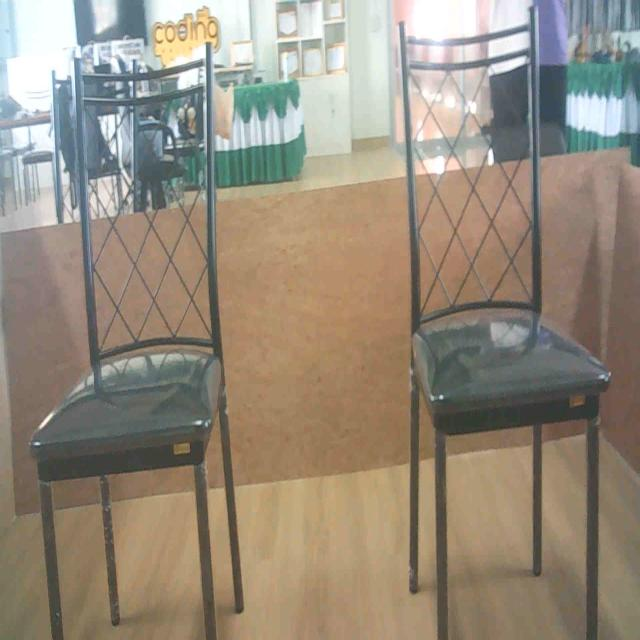empty: (379, 11, 622, 428), (25, 55, 228, 471)
